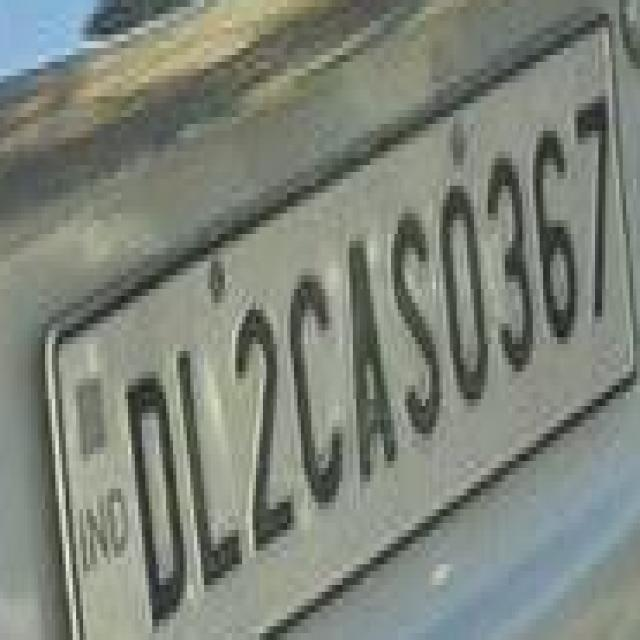license_plate: (17, 21, 640, 619)
